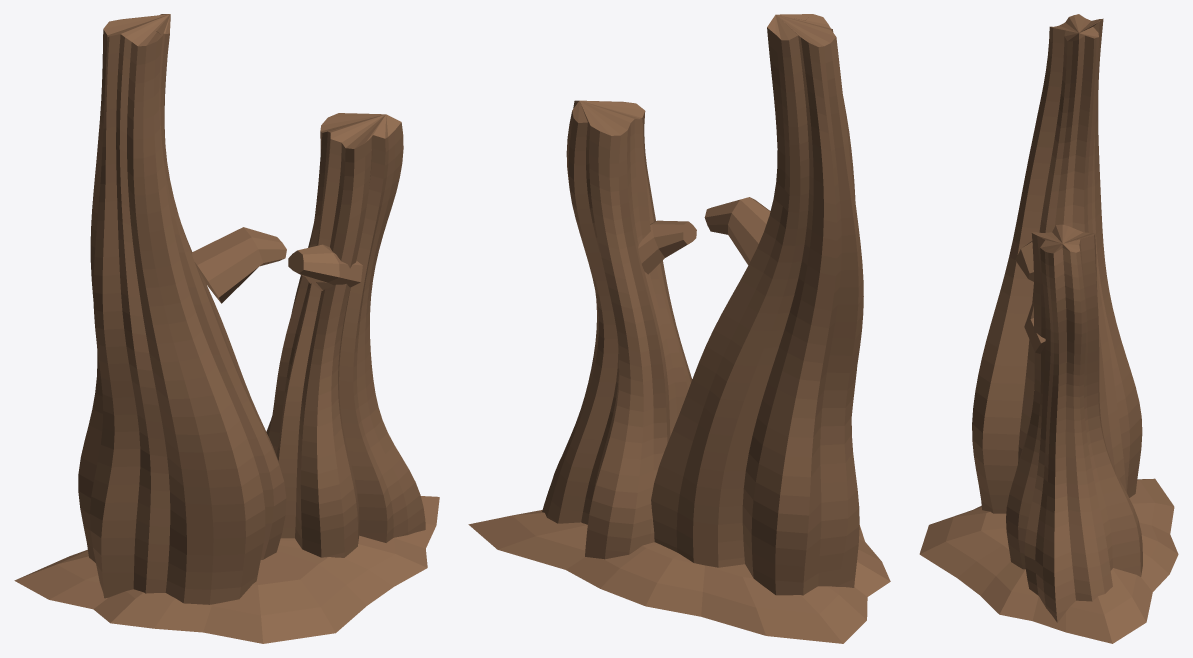
Rendered from landmark_twin_needles_a.glb.
The picture shows the model from 3 angles, left to right: view 1: azimuth 30°, elevation 25°; view 2: azimuth 150°, elevation 25°; view 3: azimuth 270°, elevation 25°; orthographic projection. The views are drawn at different scales.
Visible parts, largest first — view 1: landmark_twin_needles_a_lod0; view 2: landmark_twin_needles_a_lod0; view 3: landmark_twin_needles_a_lod0.
Boxes of the visible parts, x1,y1,x2,y2 form: landmark_twin_needles_a_lod0: (14,14,439,643); landmark_twin_needles_a_lod0: (468,14,890,643); landmark_twin_needles_a_lod0: (919,14,1178,643).
Size of what is drawn, in the model's own units: 5.64 by 7.68 by 3.66.
